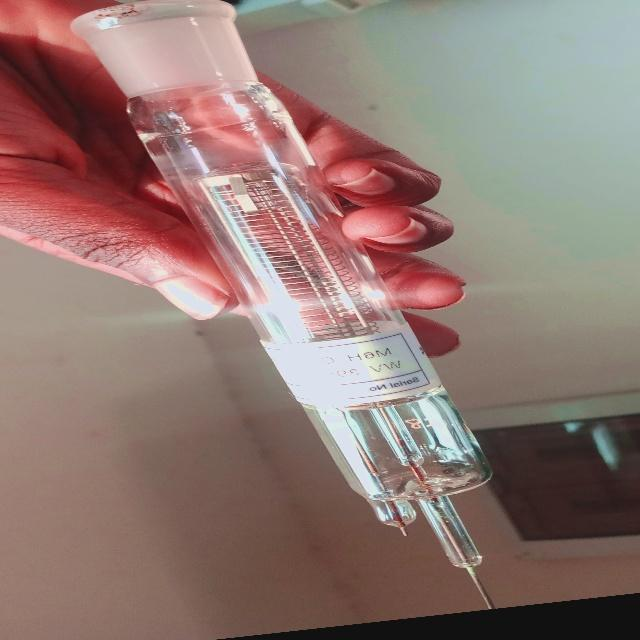Helium Lamp: (82, 0, 534, 609)
